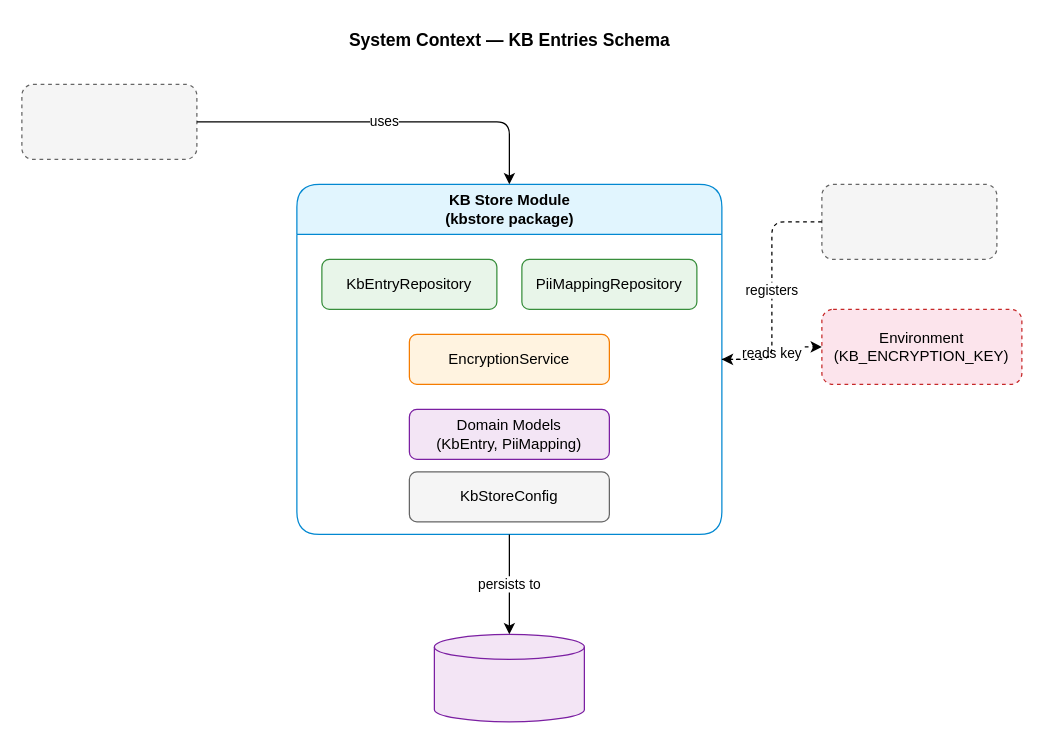
Image size: 1044x744. Some labels were removed from this diagram. The centre of each missing label's shape, as x and y in pixels:
"Koin DI (AppModule)" goes at point 909,221.
"PostgreSQL 16+" goes at point 508,677.
"Sync Service (existing)" goes at point 109,121.
